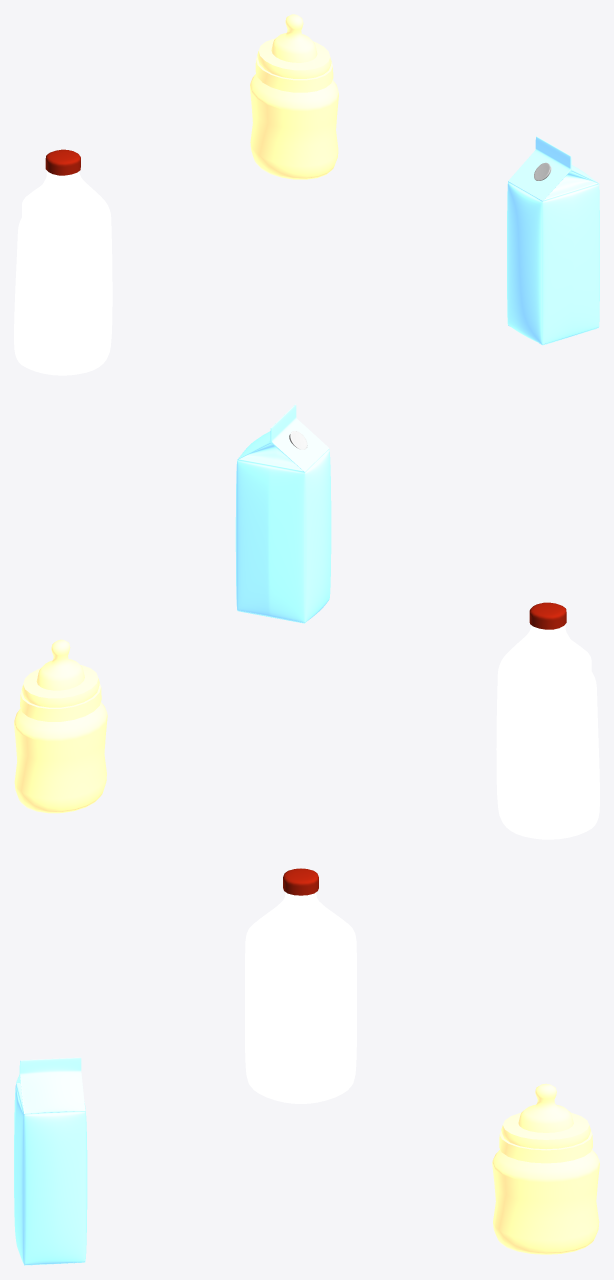
File: milk.gltf
3 views of the same model, one above another, from view 1: azimuth 30°, elevation 25°; view 2: azimuth 150°, elevation 25°; view 3: azimuth 270°, elevation 25° (orthographic). The views are drawn at different scales.
Visible parts, largest first — view 1: Cube001, Cube002_2, pCylinder1; view 2: Cube001, Cube002_2, pCylinder1; view 3: Cube001, Cube002_2, pCylinder1.
Boxes of the visible parts, x1,y1,x2,y2 form: Cube001: [14, 149, 112, 375]; Cube002_2: [507, 136, 599, 345]; pCylinder1: [250, 14, 338, 179]; Cube001: [496, 602, 599, 839]; Cube002_2: [235, 404, 331, 623]; pCylinder1: [14, 639, 107, 813]; Cube001: [245, 868, 356, 1103]; Cube002_2: [14, 1057, 87, 1265]; pCylinder1: [492, 1083, 599, 1254].
Bounding box in the file's own units: 40.95 × 18.01 × 43.5.
